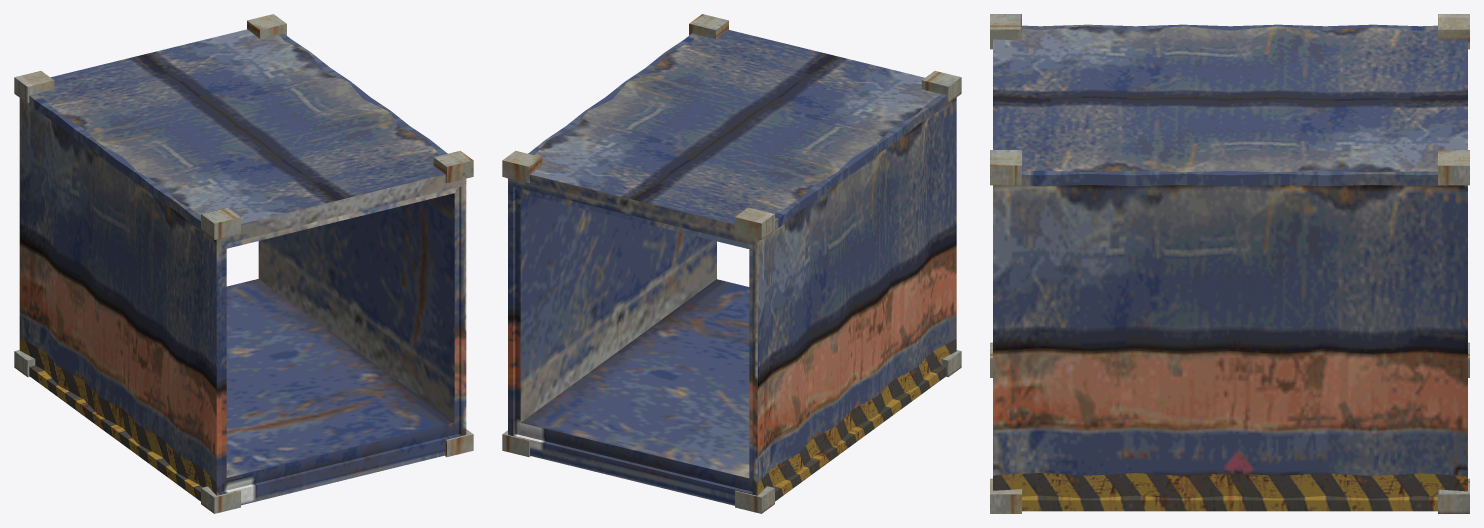
File: ContainerShortOpen2_SM.fbx
3 views of the same model, side by side, from view 1: azimuth 30°, elevation 25°; view 2: azimuth 150°, elevation 25°; view 3: azimuth 270°, elevation 25° (orthographic). The views are drawn at different scales.
Visible parts, largest first — view 1: Box014; view 2: Box014; view 3: Box014.
Boxes of the visible parts, left/top/right/bottom form: Box014: left=14, top=14, right=473, bottom=513; Box014: left=502, top=14, right=961, bottom=513; Box014: left=990, top=14, right=1469, bottom=513.
Bounding box in the file's own units: 238 × 255 × 318.
